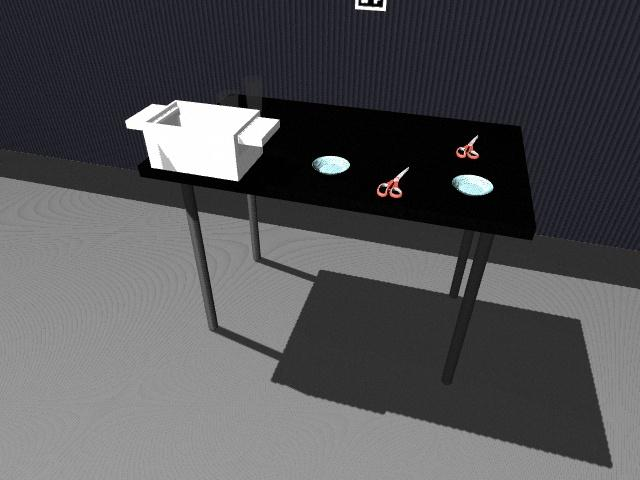cup: (241, 75, 263, 110), (216, 90, 240, 109)
plate: (450, 174, 495, 197), (311, 155, 350, 175)
scissors: (375, 165, 409, 199), (455, 134, 480, 160)
